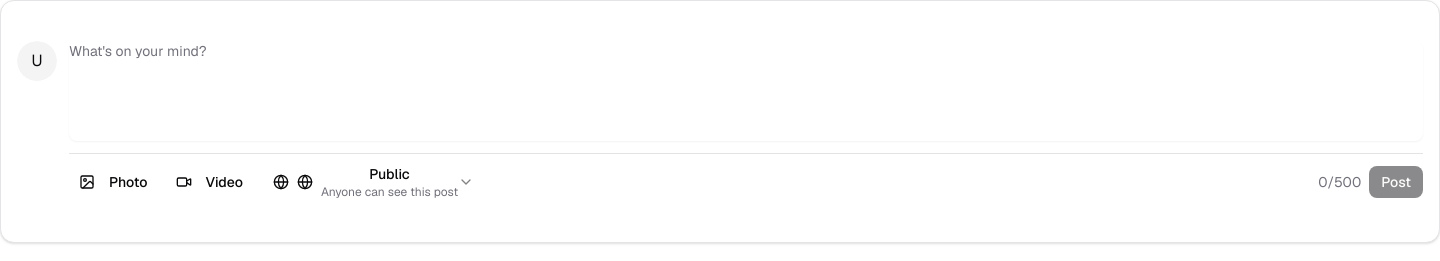
Test: PostComposer › shows loading state during submission
This screenshot has width=1440, height=261.
In the text box with placeholder "What's on your mind?": (746, 91) [69,41,1423,141], type "Hello world!"
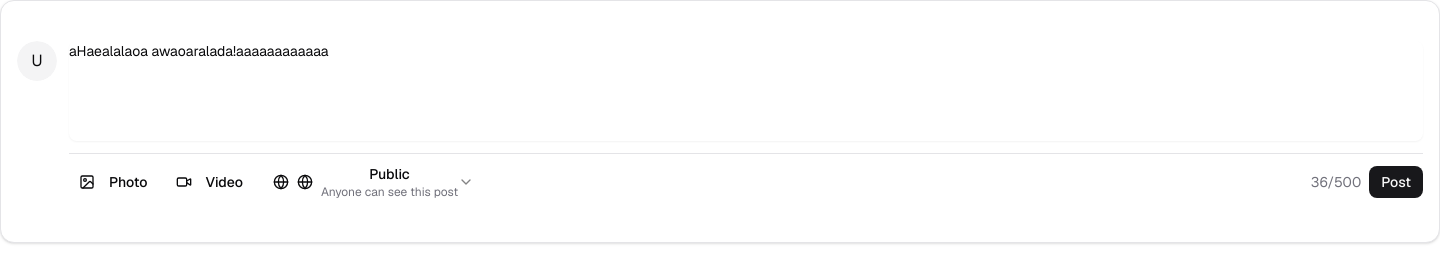
Click the button "Post": (1396, 182) [1369,166,1423,198]
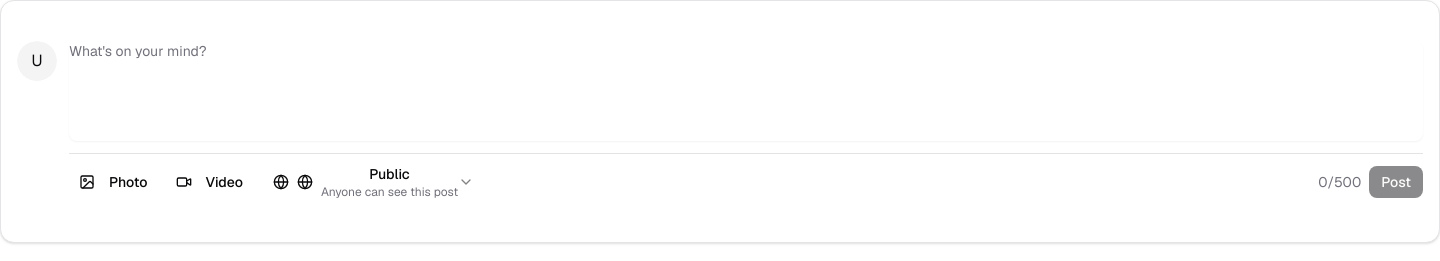
Now the button "Post" is disabled, box [1369,166,1423,198]
